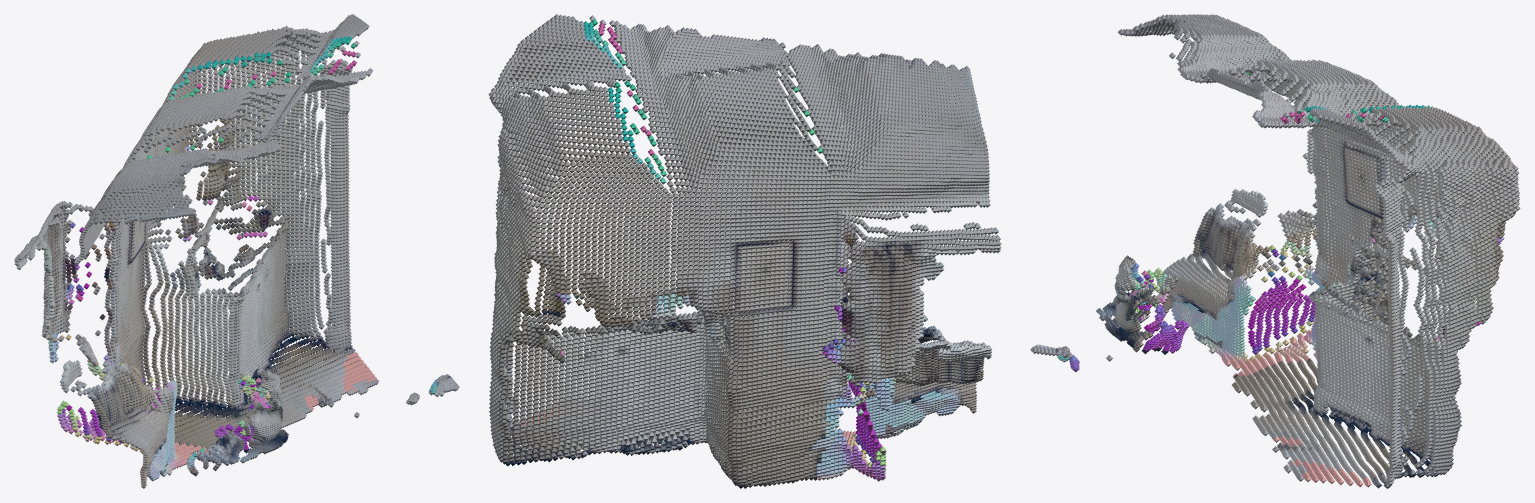
Rendered from combine_gt.glb.
3 renders of one model, left to right at view 1: azimuth 30°, elevation 25°; view 2: azimuth 150°, elevation 25°; view 3: azimuth 270°, elevation 25°, orthographic. The views are drawn at different scales.
Visible parts, largest first — view 1: world; view 2: world; view 3: world.
Boxes of the visible parts, left/top/right/bottom form: world: left=14, top=14, right=459, bottom=488; world: left=488, top=14, right=1001, bottom=488; world: left=1030, top=14, right=1520, bottom=488.
Size of the model in its own units: 3.7 by 3.2 by 3.85.
